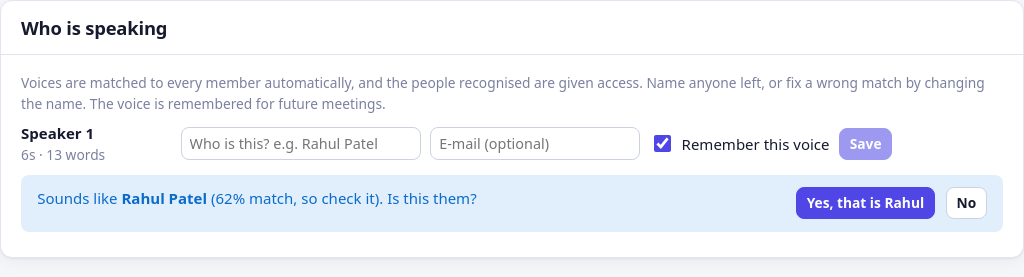
Test case: "Is this them?" for a voice that sounds like someone saved › "No" hides the suggestion and changes nothing
Click the button "No" at {"x": 966, "y": 203}, box [946, 187, 987, 219]
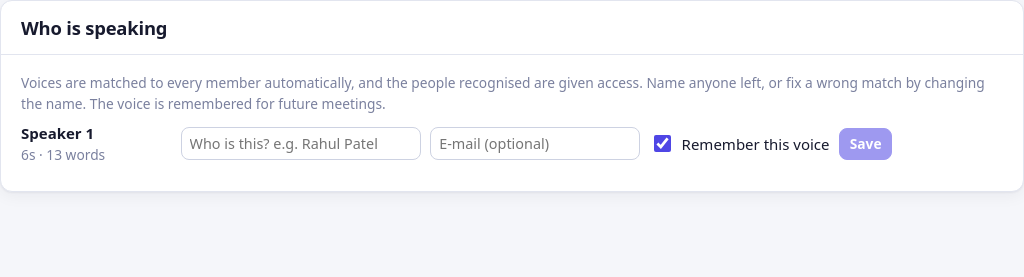
Expected: the field named "Name for Speaker 1" is shown, [181, 127, 421, 160]
Expected: the text "Sounds like" is gone
